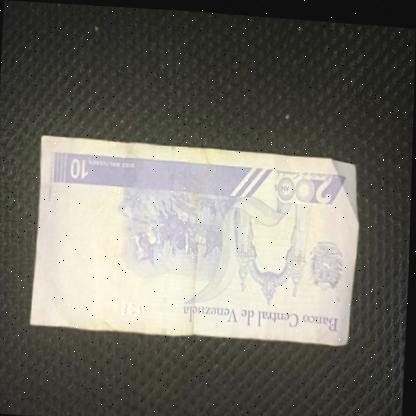ten-back-vef: (33, 134, 362, 344)
